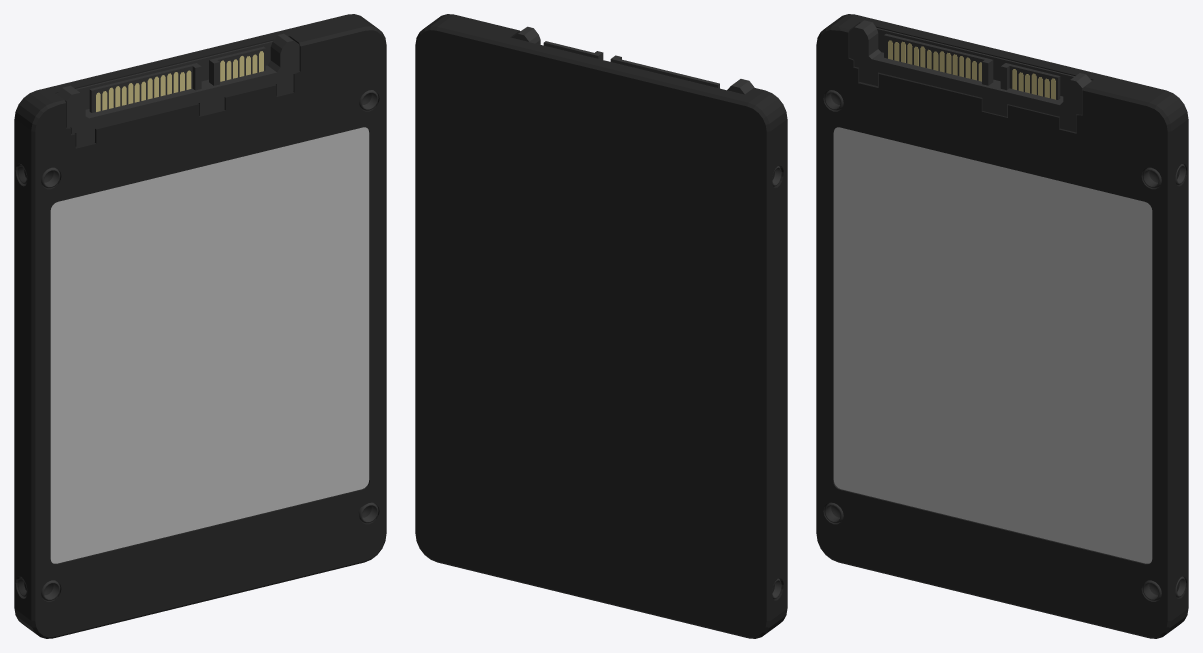
The model's file is ROM.obj.
The picture shows the model from 3 angles, left to right: view 1: azimuth 30°, elevation 25°; view 2: azimuth 150°, elevation 25°; view 3: azimuth 330°, elevation 25°; orthographic projection.
Parts seen in each view (by area): view 1: Mesh_2, Mesh_1; view 2: Mesh_2, Mesh_1; view 3: Mesh_2, Mesh_1.
Boxes of the visible parts, x1,y1,x2,y2 form: Mesh_2: (14, 14, 386, 638); Mesh_1: (56, 33, 299, 146); Mesh_2: (415, 14, 787, 638); Mesh_1: (512, 26, 754, 94); Mesh_2: (816, 14, 1188, 638); Mesh_1: (849, 20, 1092, 132).
Size of the model in its own units: 6.92 by 10.05 by 0.6763.
2 materials, 2 textured.
